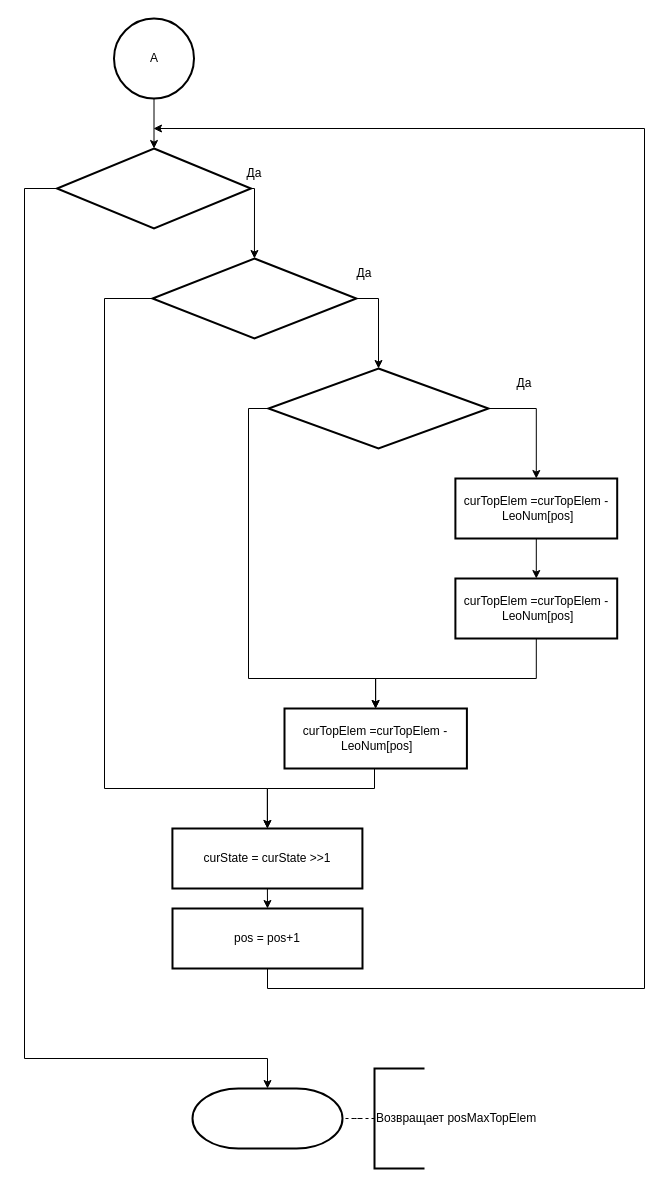
This 670x1186 diagram has some shape labels left out. The shapes that lost their labels are listed below. From the top down, each one's centre as x and y in pixels, then its label:
At point 154,188: "curState".
At point 254,298: "curState & 1".
At point 378,408: "arr[curTopElem] > arr[posMaxTopElem]".
At point 267,1118: "Конец".
